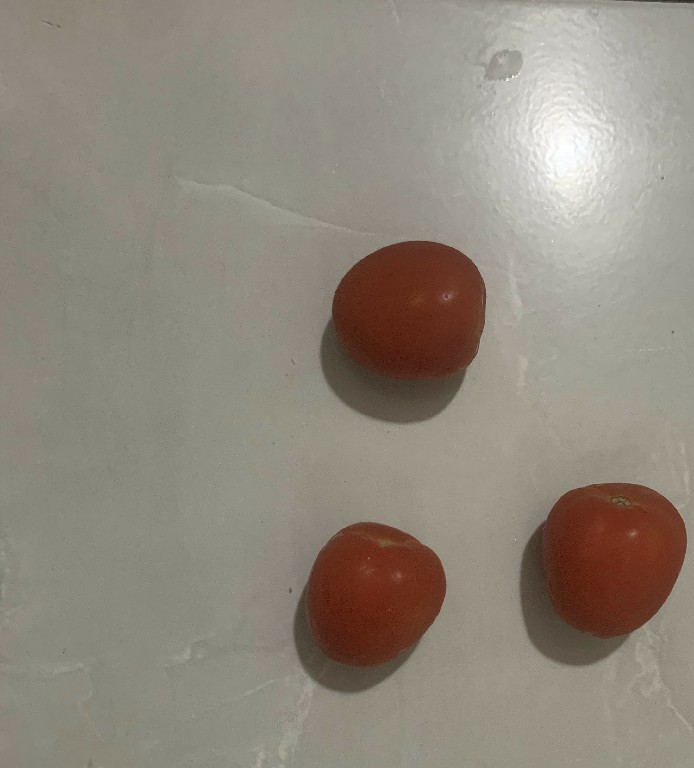OK: (319, 233, 491, 386), (543, 479, 684, 644), (303, 522, 448, 670)
